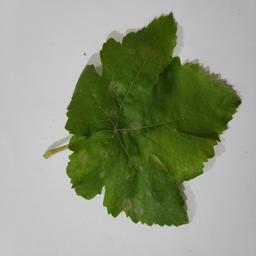Powdery-Mildew: (130, 150, 170, 175), (107, 79, 146, 99), (121, 191, 148, 218), (174, 149, 202, 175), (128, 119, 144, 136), (76, 151, 92, 167)
